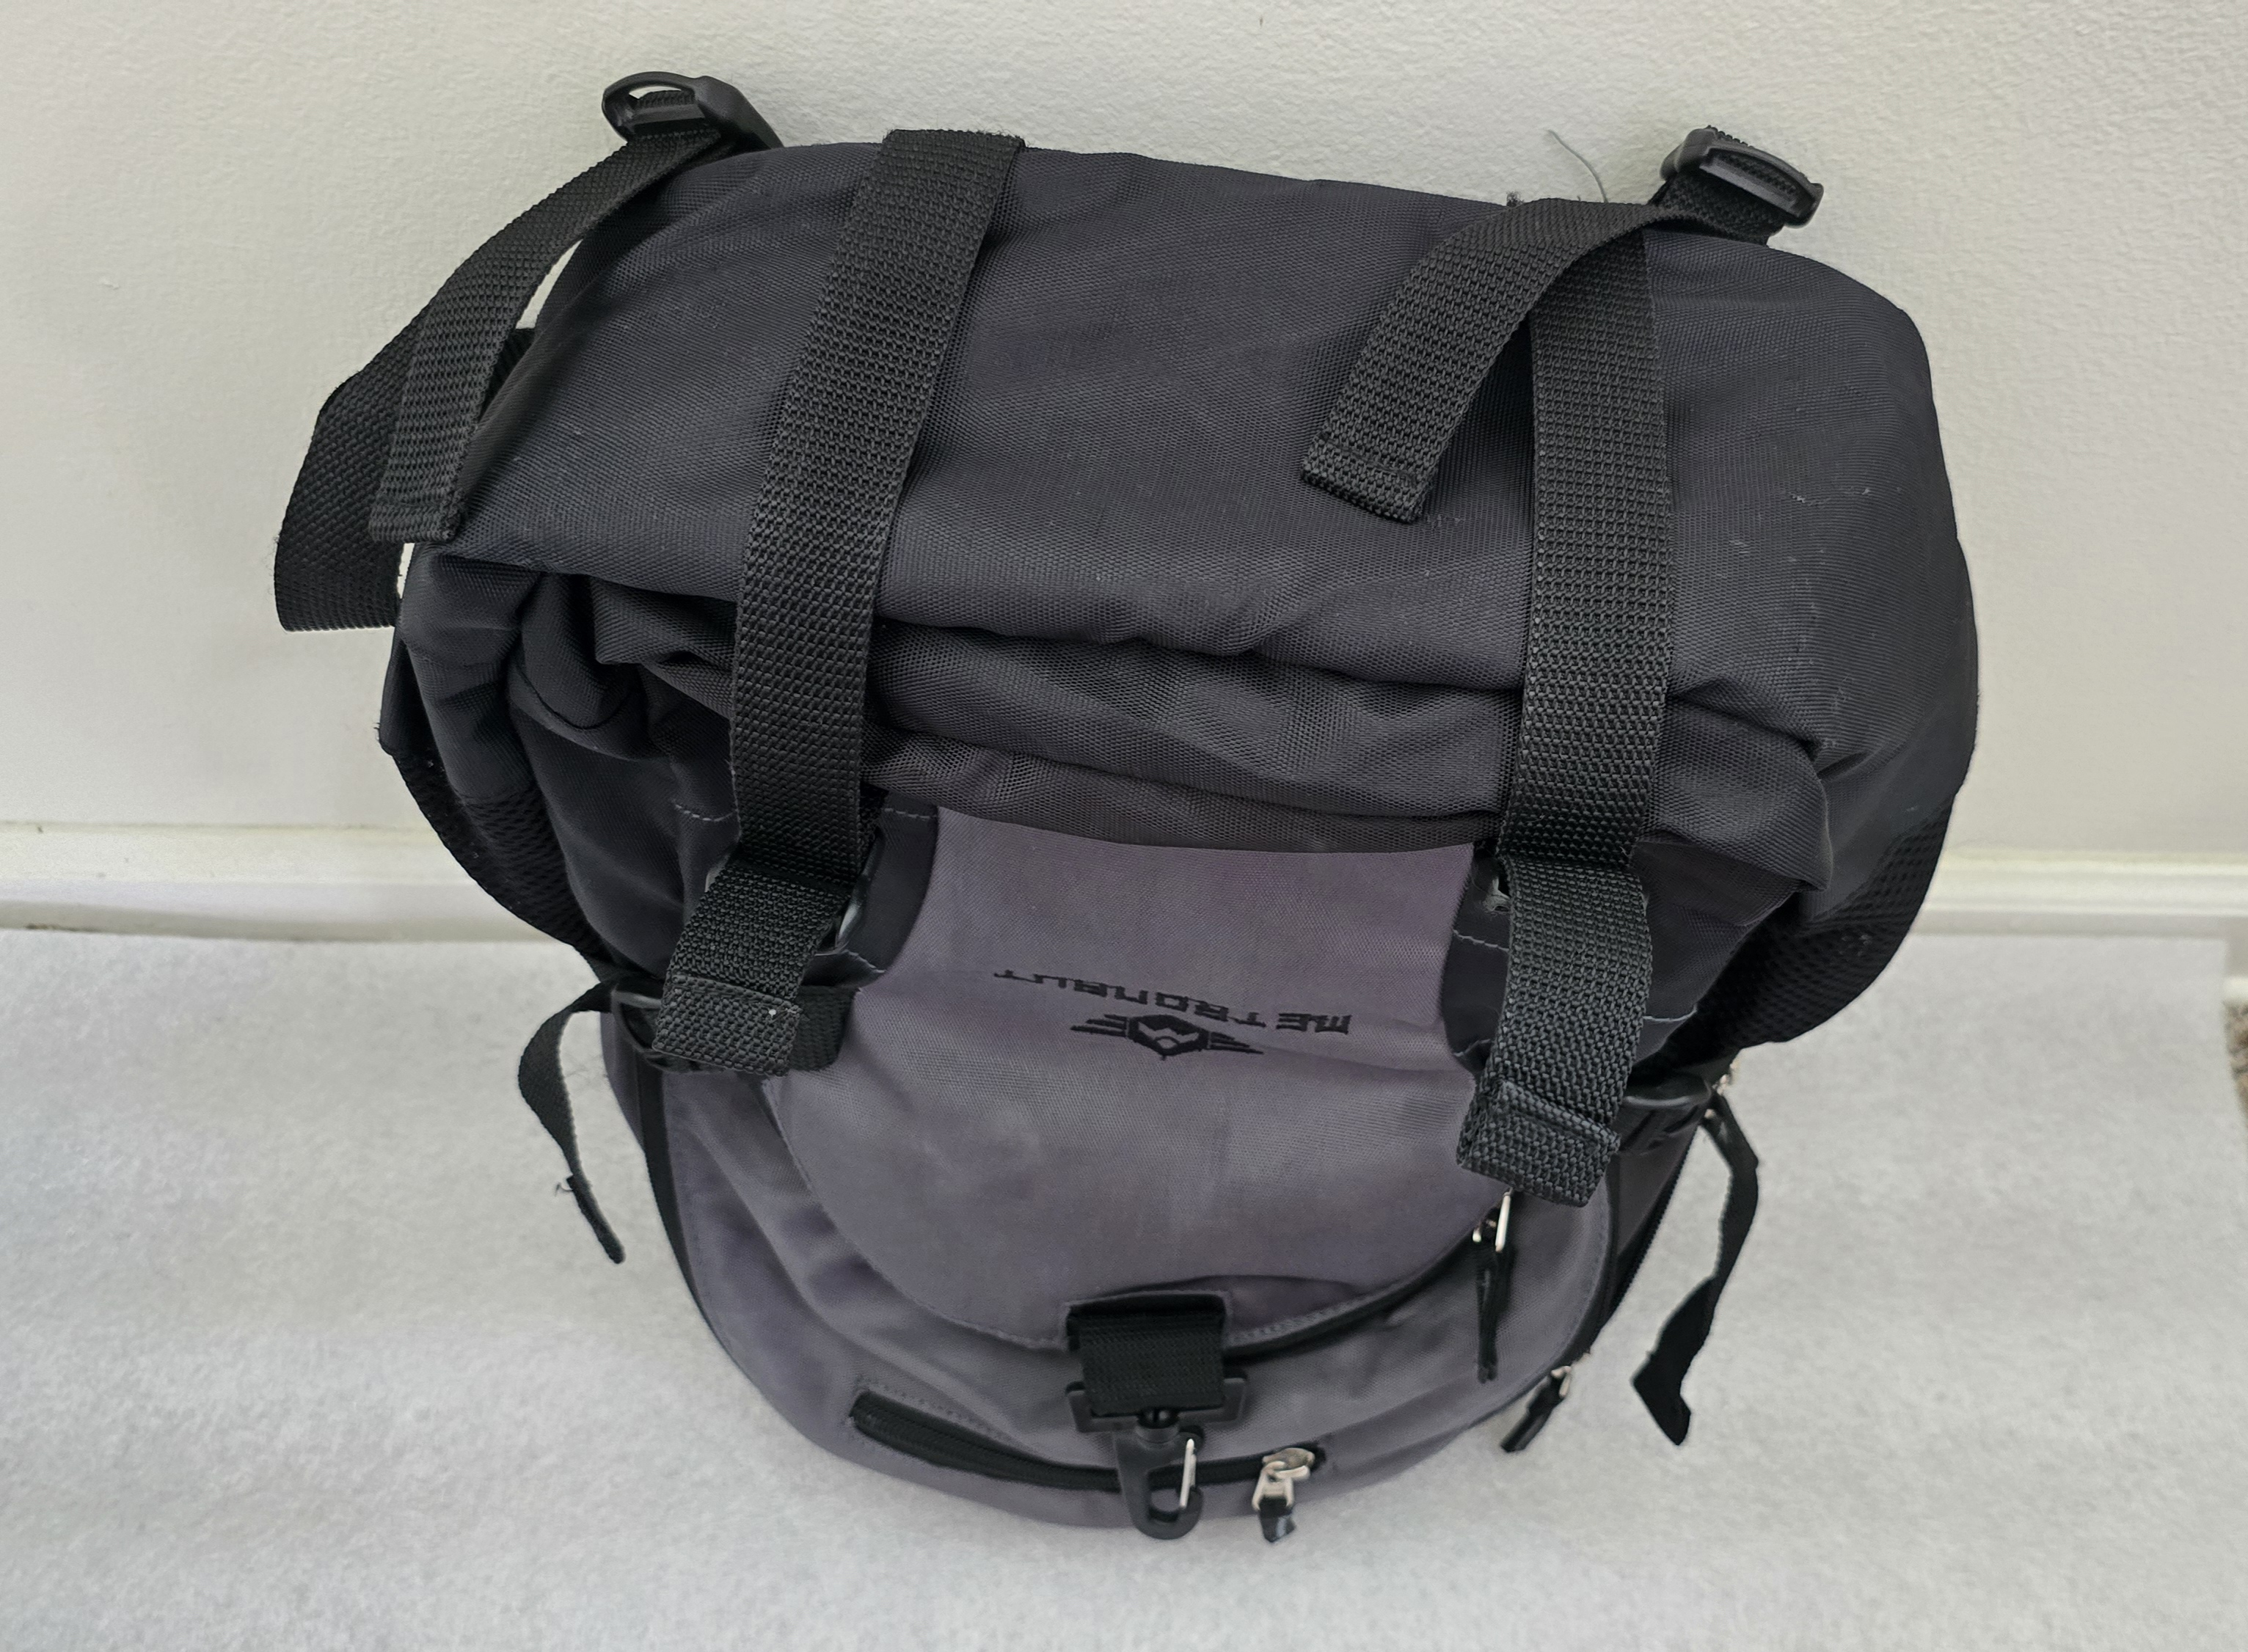bag: (246, 72, 2068, 1521)
